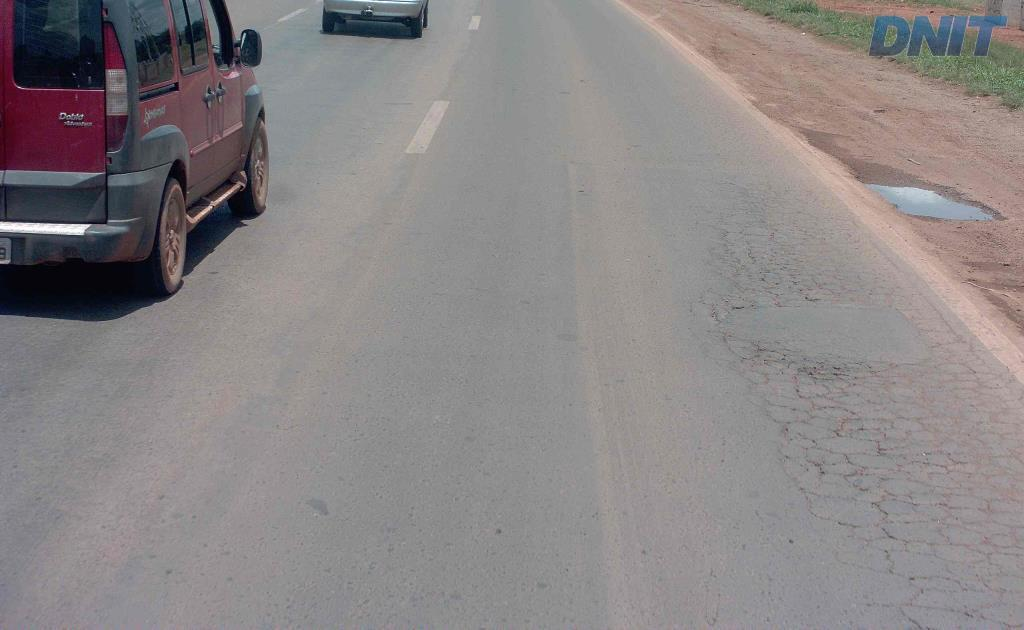crack: (738, 187, 833, 289), (867, 439, 968, 512), (801, 446, 895, 506), (791, 352, 906, 400), (857, 489, 940, 552), (930, 513, 1008, 577), (798, 486, 863, 539), (732, 265, 789, 307), (738, 338, 798, 368), (710, 293, 762, 325), (979, 526, 1023, 549)
